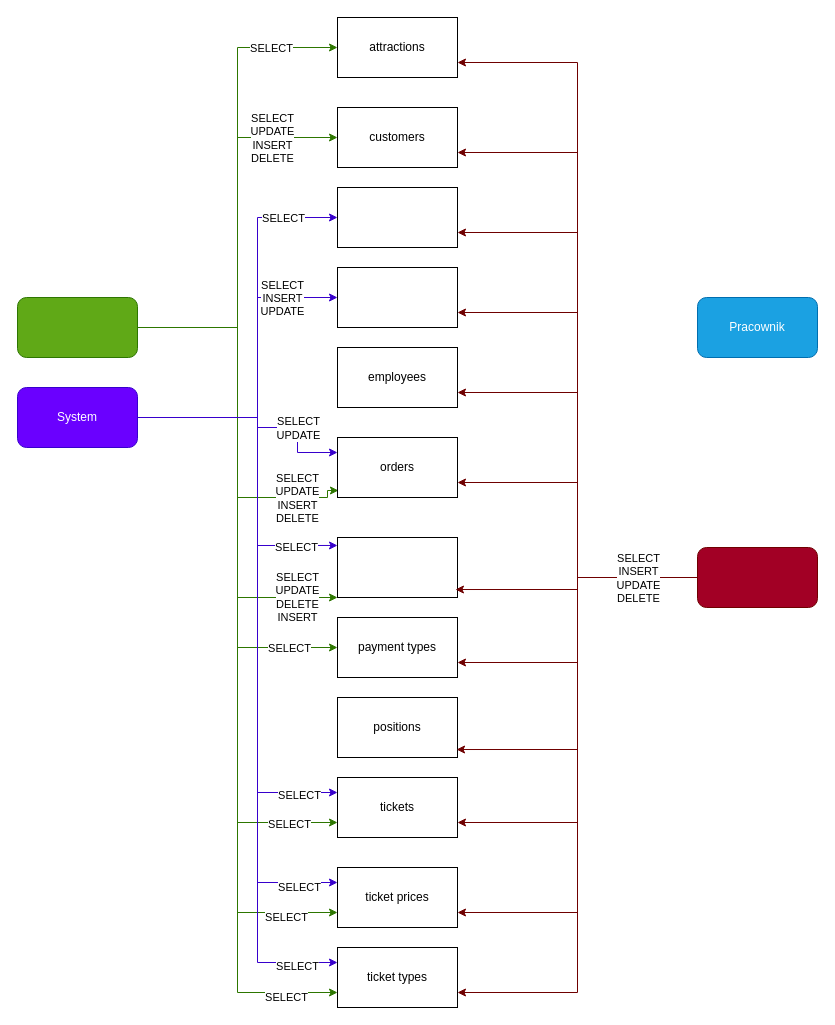
Image size: 835x1025. Some labels were removed from this diagram. The centre of each missing label's shape, as x and y in pixels:
Administrator: [757,577]
discount history: [397,297]
discounts: [397,217]
Klient: [77,327]
order tickets: [397,567]
